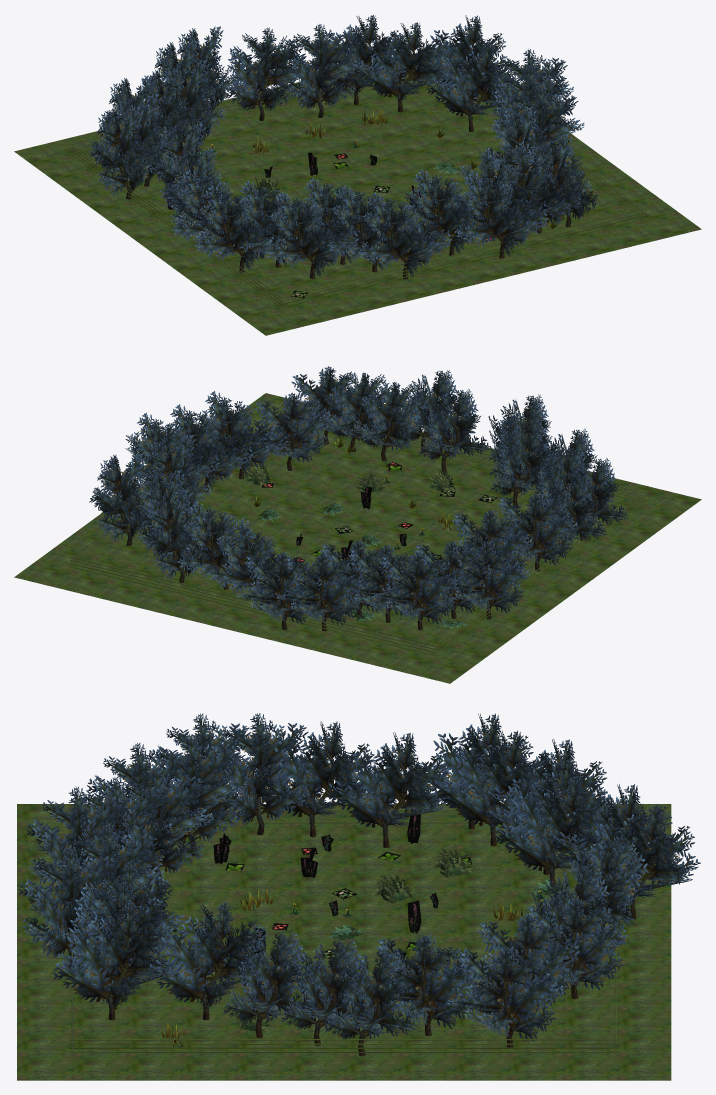
File: Ground.fbx
3 views of the same model, one above another, from view 1: azimuth 30°, elevation 25°; view 2: azimuth 150°, elevation 25°; view 3: azimuth 270°, elevation 25° (orthographic). The views are drawn at different scales.
Parts seen in each view (by area): view 1: pCube1, tree, Fence1, tree19, tree14, tree16, tree2, tree21, tree4, tree25, tree6, tree15 (+21 smaller); view 2: pCube1, Fence1, tree27, tree30, tree25, tree10, tree5, tree23, tree3, tree13, tree15, tree31 (+21 smaller); view 3: pCube1, tree11, tree10, tree5, tree24, tree29, tree23, tree22, tree6, tree18, tree14, tree9 (+23 smaller).
Boxes of the visible parts, x1,y1,x2,y2 form: pCube1: [14, 50, 701, 335]; tree: [219, 27, 309, 120]; Fence1: [70, 58, 645, 308]; tree19: [265, 192, 358, 279]; tree14: [454, 171, 548, 258]; tree16: [358, 192, 451, 279]; tree2: [282, 24, 363, 117]; tree21: [192, 185, 285, 272]; tree4: [354, 22, 449, 112]; tree25: [89, 106, 156, 199]; tree6: [426, 43, 518, 131]; tree15: [404, 169, 491, 256]; pCube1: [14, 393, 701, 683]; Fence1: [70, 403, 645, 656]; tree27: [372, 552, 457, 630]; tree30: [277, 553, 361, 631]; tree25: [449, 541, 529, 619]; tree10: [252, 392, 332, 470]; tree5: [89, 453, 151, 545]; tree23: [497, 493, 577, 571]; tree3: [137, 489, 204, 583]; tree13: [349, 382, 426, 461]; tree15: [418, 389, 490, 472]; tree31: [236, 552, 321, 630]; pCube1: [17, 804, 671, 1080]; tree11: [52, 902, 180, 1020]; tree10: [146, 901, 267, 1020]; tree5: [446, 946, 564, 1047]; tree24: [327, 732, 453, 847]; tree29: [494, 775, 613, 887]; tree23: [256, 721, 374, 837]; tree22: [211, 713, 308, 835]; tree6: [375, 934, 477, 1036]; tree18: [118, 766, 212, 887]; tree14: [18, 846, 119, 967]; tree9: [223, 931, 314, 1038].
Bounding box in the file's own units: 12295 × 2390 × 12621.
